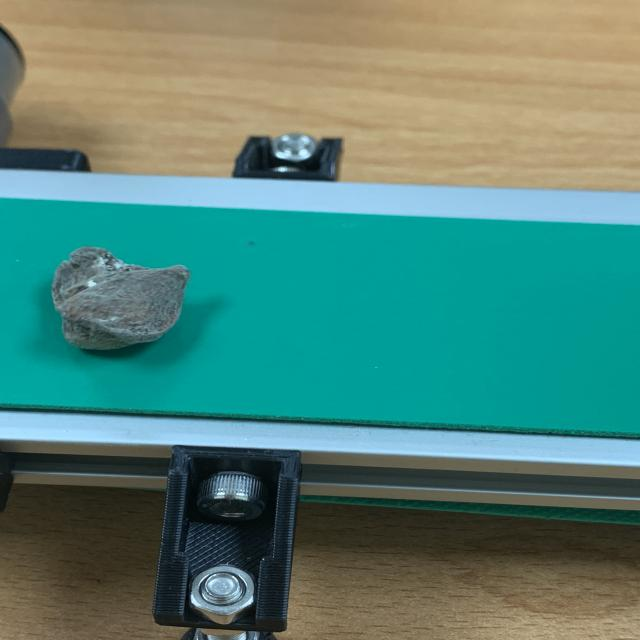Agglomerated_cocoabeans: (0, 214, 265, 393)
